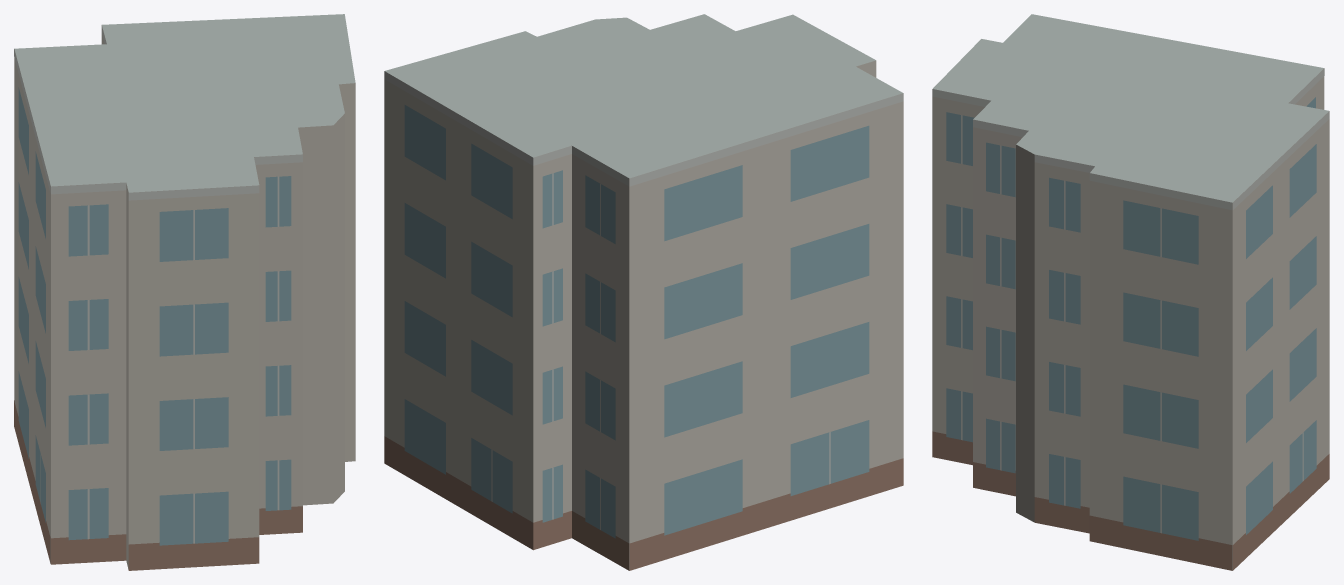
Rendered from survey-upis-32668808.glb.
3 renders of one model, left to right at view 1: azimuth 30°, elevation 25°; view 2: azimuth 150°, elevation 25°; view 3: azimuth 270°, elevation 25°, orthographic. The views are drawn at different scales.
Parts seen in each view (by area): view 1: survey-upis-32668808.tmp; view 2: survey-upis-32668808.tmp; view 3: survey-upis-32668808.tmp.
Part boxes in pixels (box(x1,y1,x2,y2)): survey-upis-32668808.tmp: box(14, 14, 355, 570); survey-upis-32668808.tmp: box(384, 14, 903, 570); survey-upis-32668808.tmp: box(932, 14, 1329, 570).
Size of the model in its own units: 12.81 by 11.65 by 11.4.
